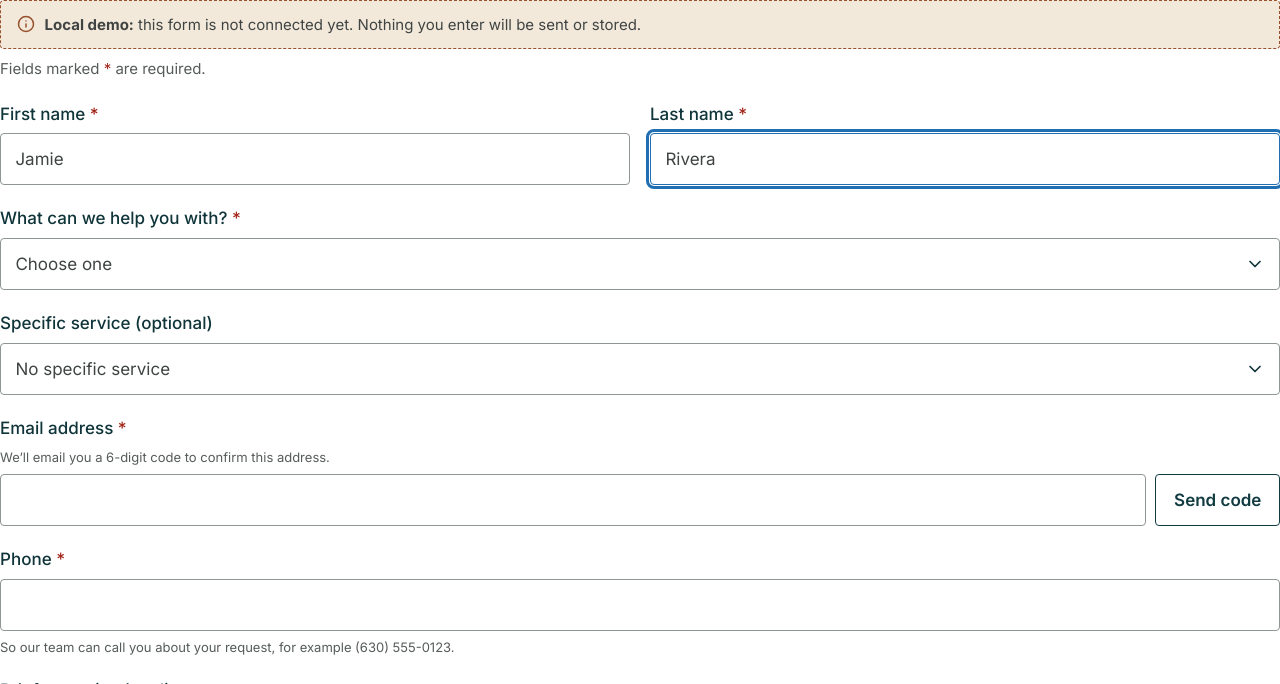
Test: AppointmentForm › shows a demo confirmation that says nothing was sent
This screenshot has width=1280, height=684.
Earlier steps of the test are not shown.
Select "Physical Therapy" in the dropdown labelled "What can we help you with? *": (640, 264) 0,238 -> 1279,290
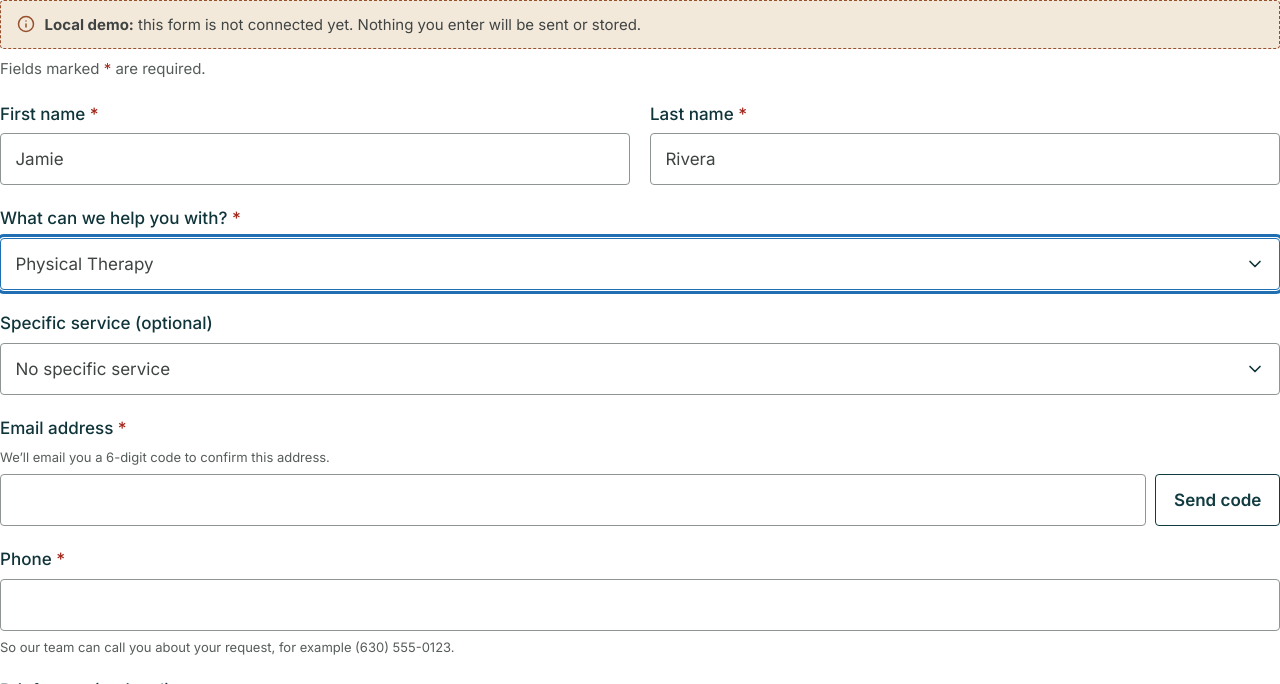
In the field labelled "Email address *": (573, 500) 0,474 -> 1146,526, type "jamie@example.com"
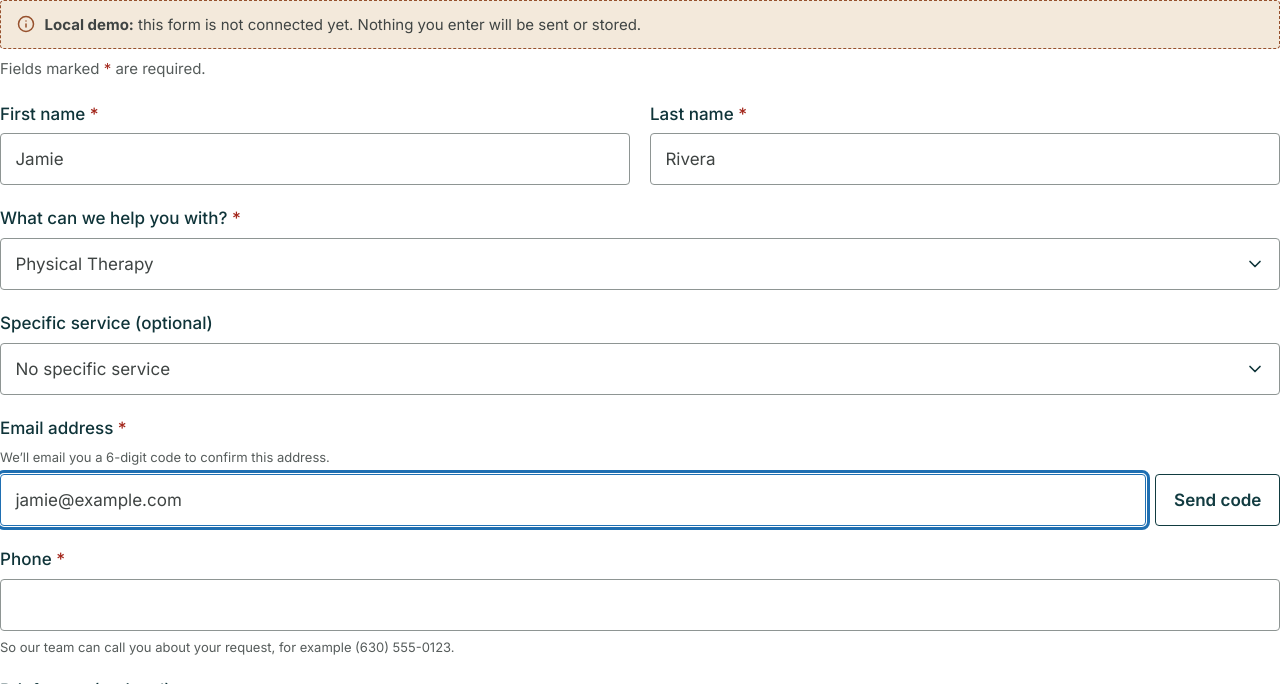
Click the button "Send code": (1218, 500) 1156,474 -> 1279,526
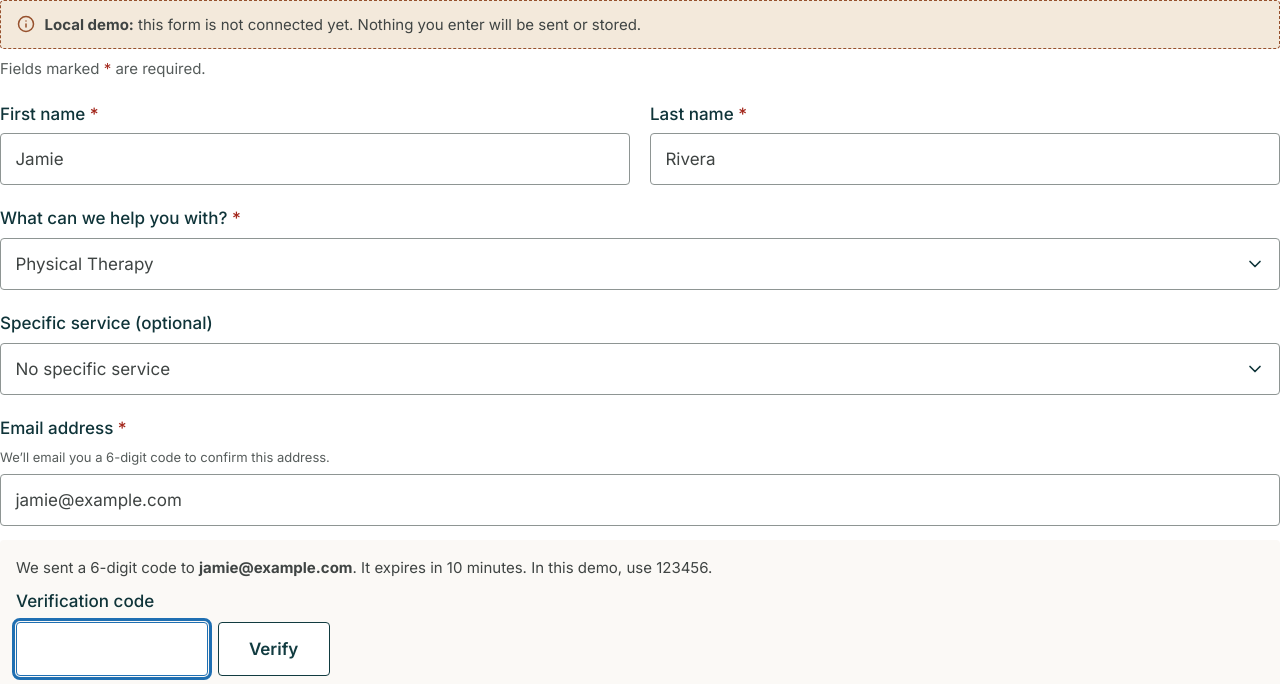
In the field labelled "Verification code": (112, 649) 16,622 -> 208,676, type "123456"
Click the button "Verify": (274, 649) 218,622 -> 330,676
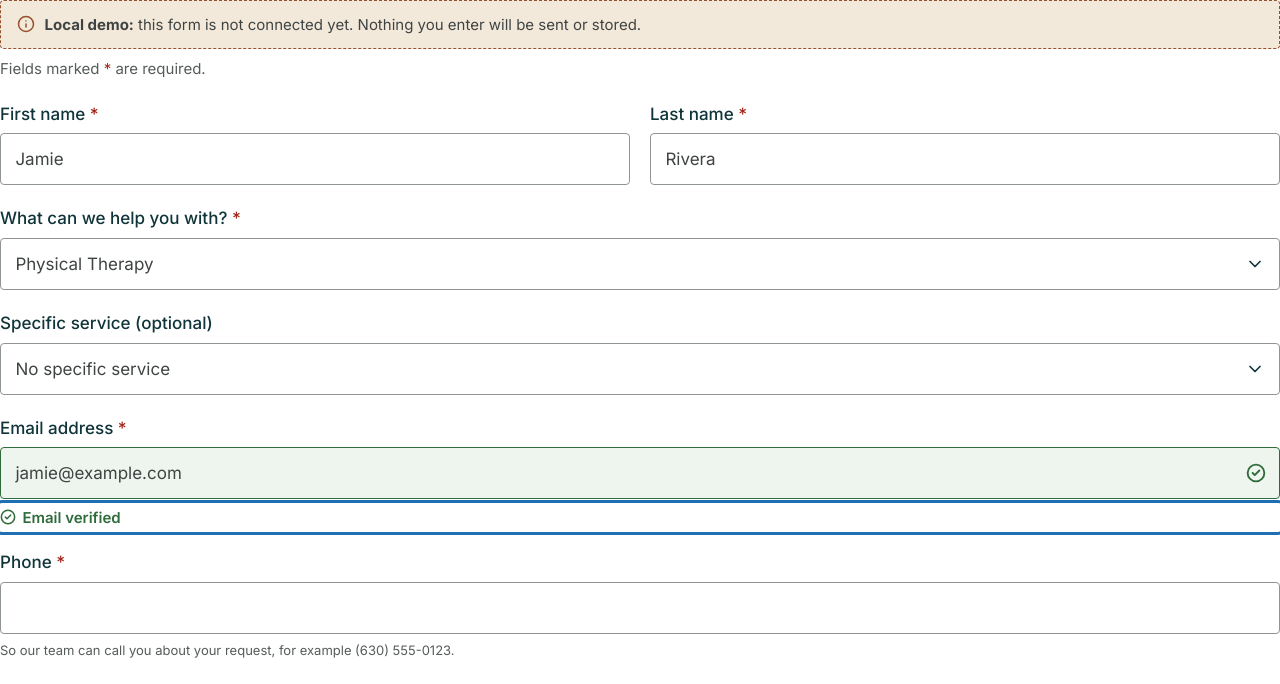
Check: the text "Email verified" is shown, box 0,508 -> 121,527
In the field labelled "Phone *": (640, 608) 0,582 -> 1279,634, type "(630) 555-0123"
(page scrolled)
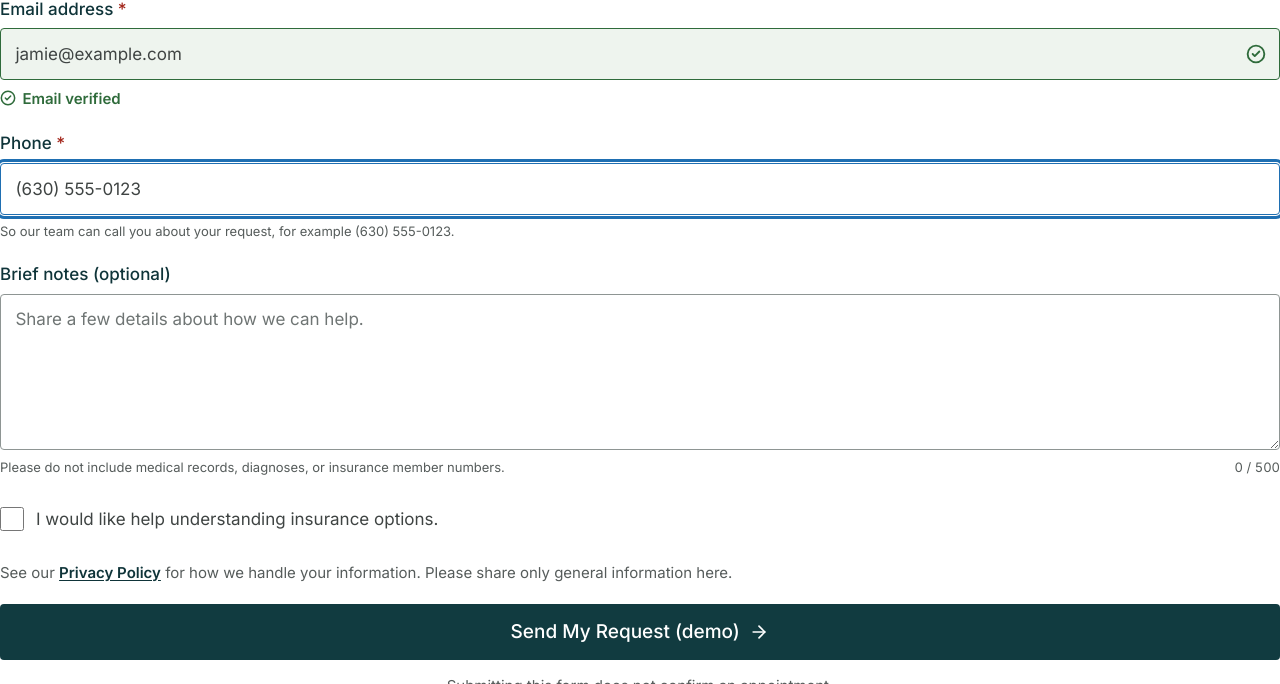
Click the button "Send My Request (demo)": (640, 632) 0,604 -> 1279,660
(page scrolled)
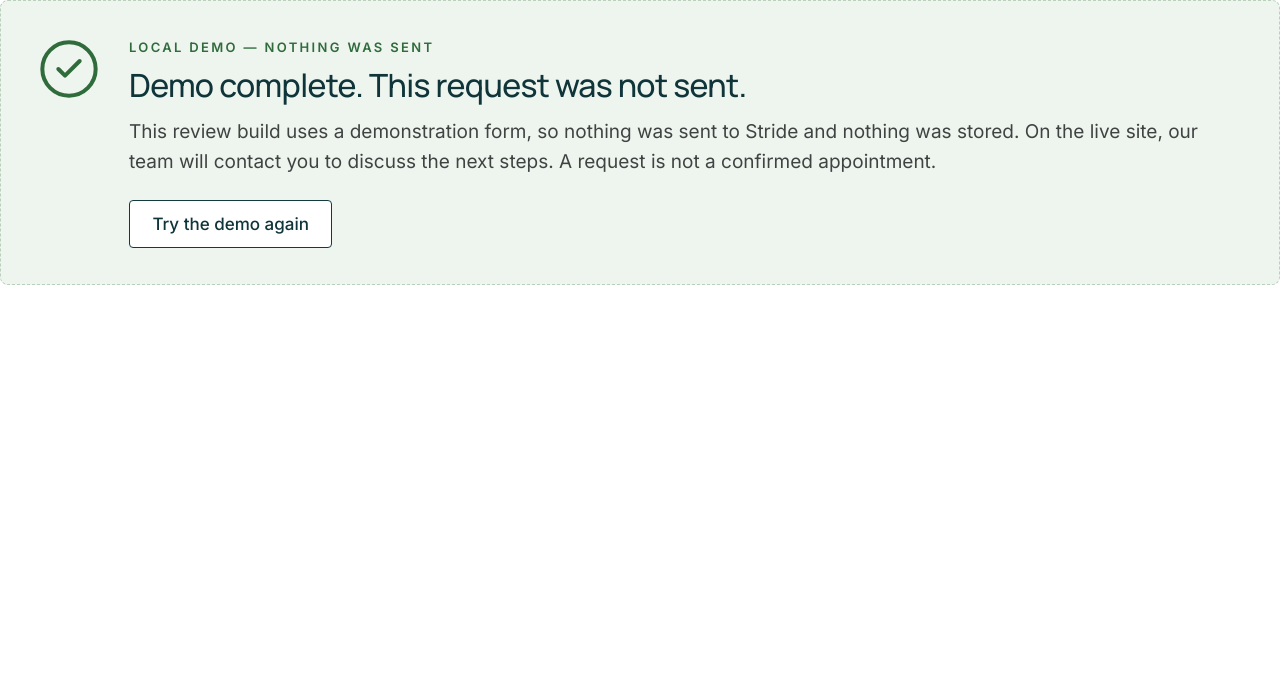
Check: the text "nothing was sent to Stride" is shown, box 129,120 -> 1198,172
